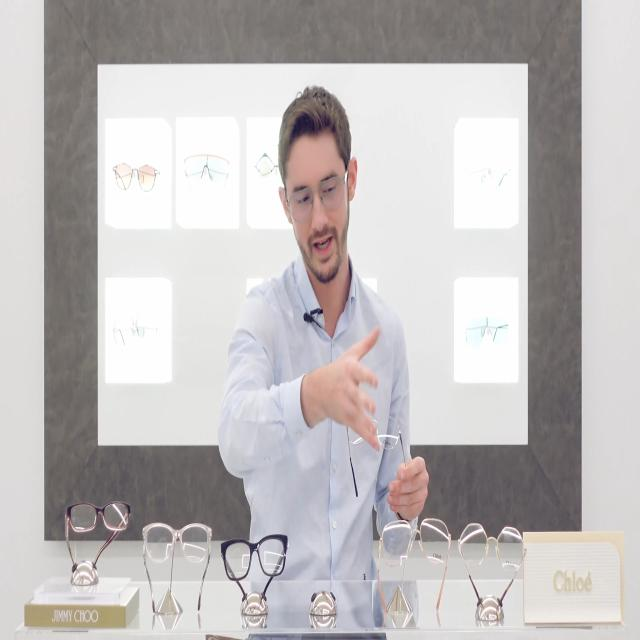dress: (218, 249, 418, 579)
glasses: (382, 516, 451, 568), (222, 530, 288, 581), (144, 520, 212, 567), (459, 522, 524, 570), (346, 411, 402, 454), (67, 499, 131, 536), (182, 151, 230, 185), (112, 157, 156, 193)
